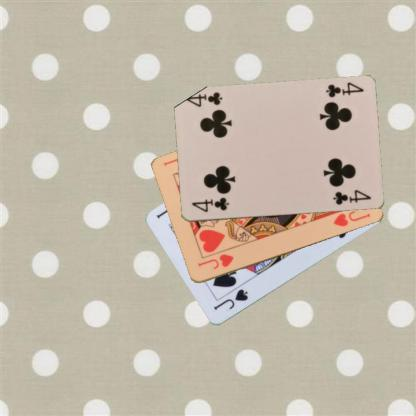4c: (189, 194, 230, 214), (323, 80, 365, 99)
Jh: (195, 252, 235, 272)
Js: (210, 287, 250, 312)
